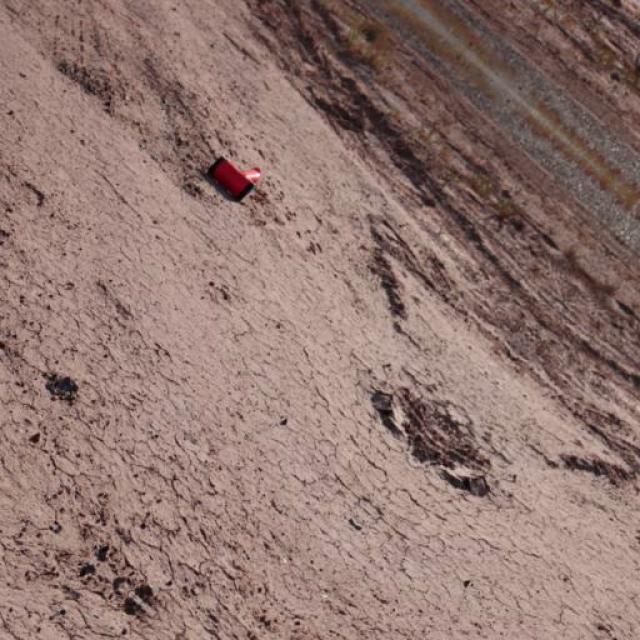mallet: (208, 155, 264, 200)
